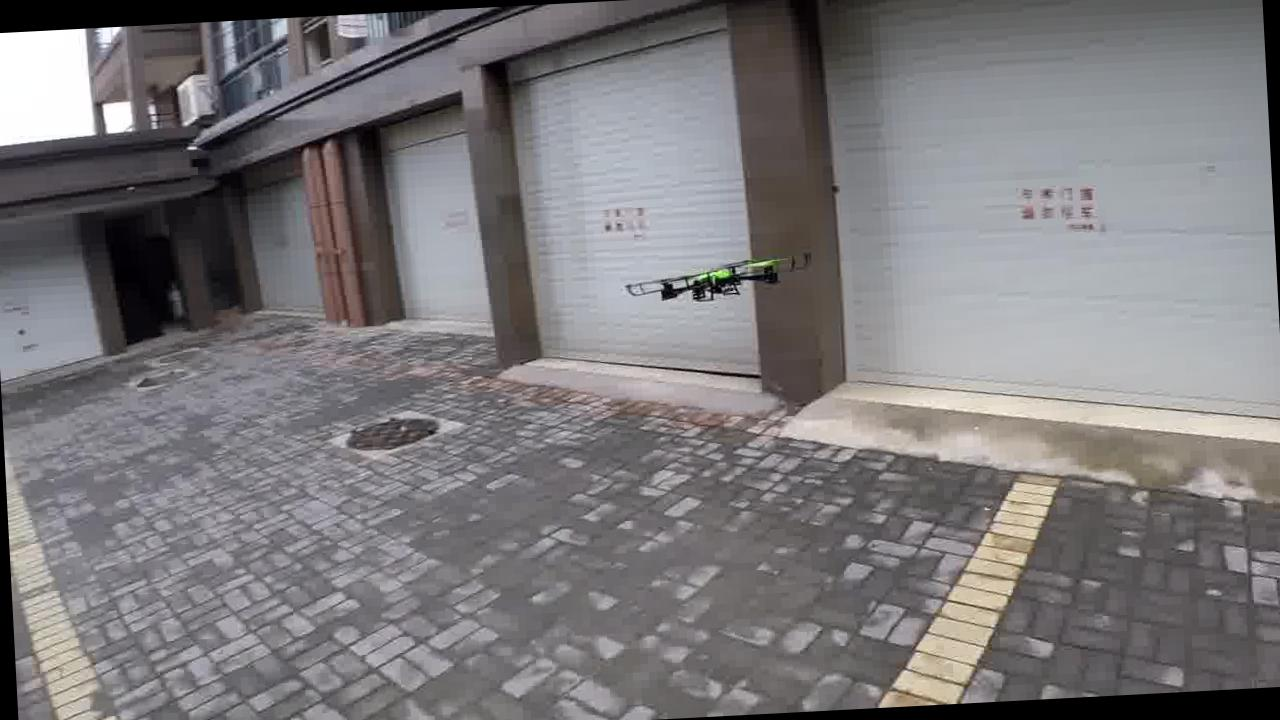drone: (608, 226, 810, 324)
